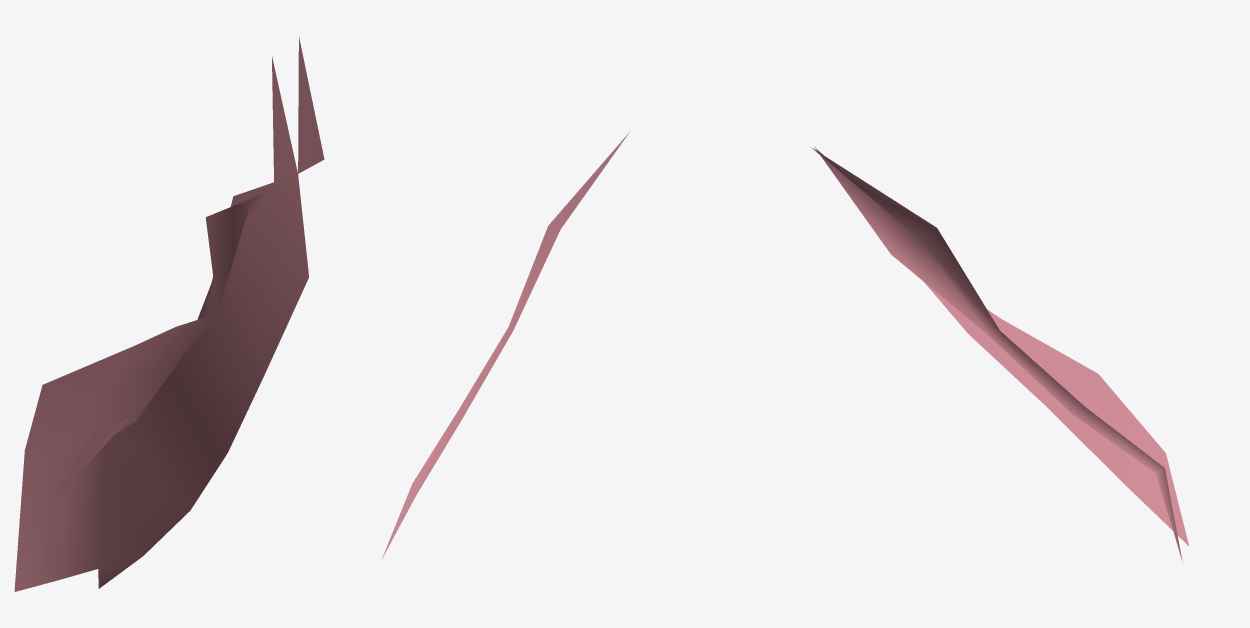
The model's file is component-05-lower.glb.
The picture shows the model from 3 angles, left to right: view 1: azimuth 30°, elevation 25°; view 2: azimuth 150°, elevation 25°; view 3: azimuth 270°, elevation 25°; orthographic projection. The views are drawn at different scales.
Parts seen in each view (by area): view 1: component-05-lower; view 2: component-05-lower; view 3: component-05-lower.
Boxes of the visible parts, x1,y1,x2,y2 form: component-05-lower: [14, 37, 324, 591]; component-05-lower: [381, 132, 629, 560]; component-05-lower: [811, 147, 1189, 561].
Bounding box in the file's own units: 0.0376 × 0.1274 × 0.1091.
